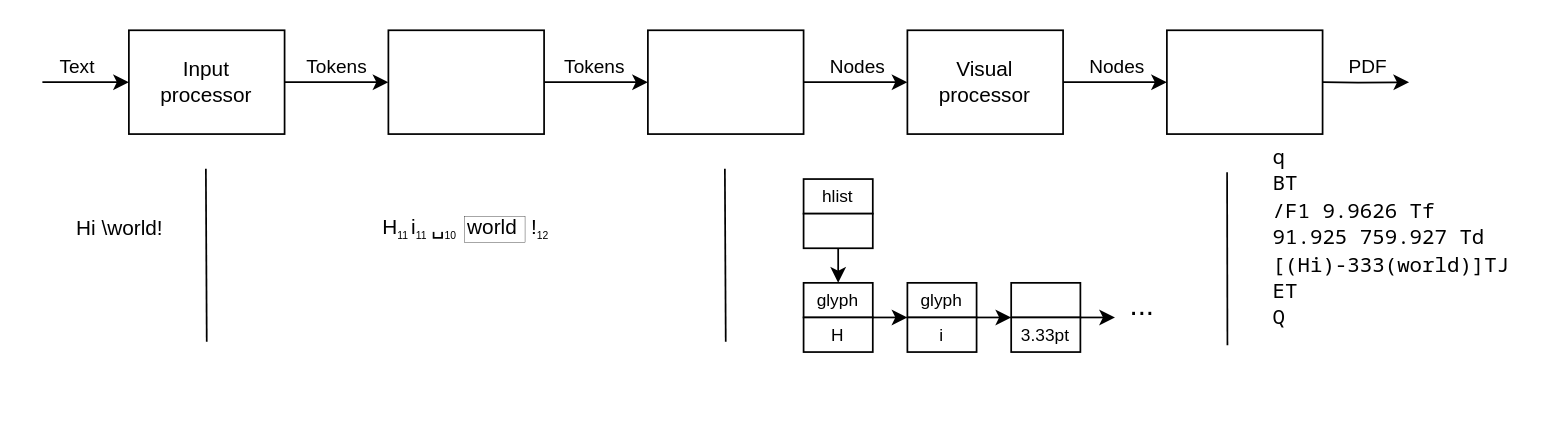
This 1560x429 diagram has some shape labels left out. Here are the shapes that lost their labels. From the top down, the centre of each, then its label:
At point 465,81: "Expansion processor".
At point 725,81: "Execution processor".
At point 1244,81: "Backend".
At point 1044,299: "glue".
